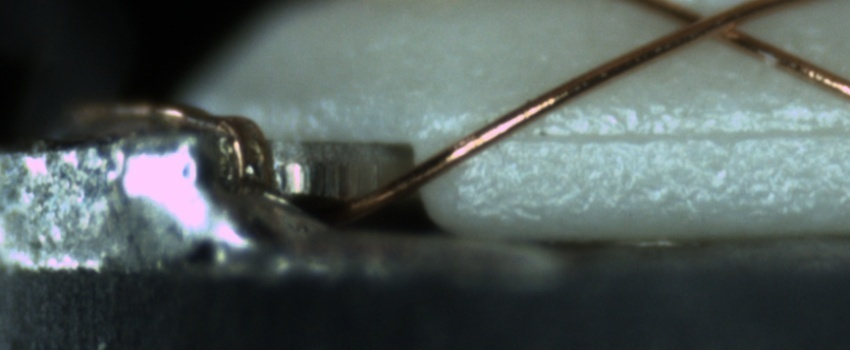CL: (659, 2, 768, 46)
DL: (499, 101, 849, 169)
TE: (56, 94, 281, 189)
